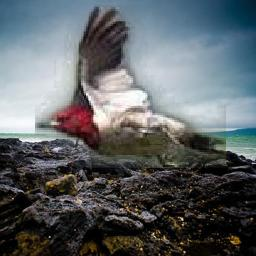Woodpecker: (36, 6, 227, 169)
